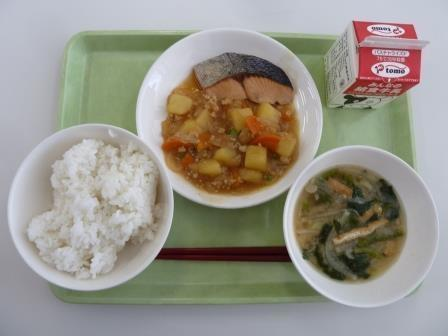Fish: (187, 52, 308, 105)
Milk: (317, 16, 426, 117)
Rice: (11, 130, 166, 285)
Soups: (292, 159, 439, 299)
vegetable based cooked food: (155, 91, 305, 194)
